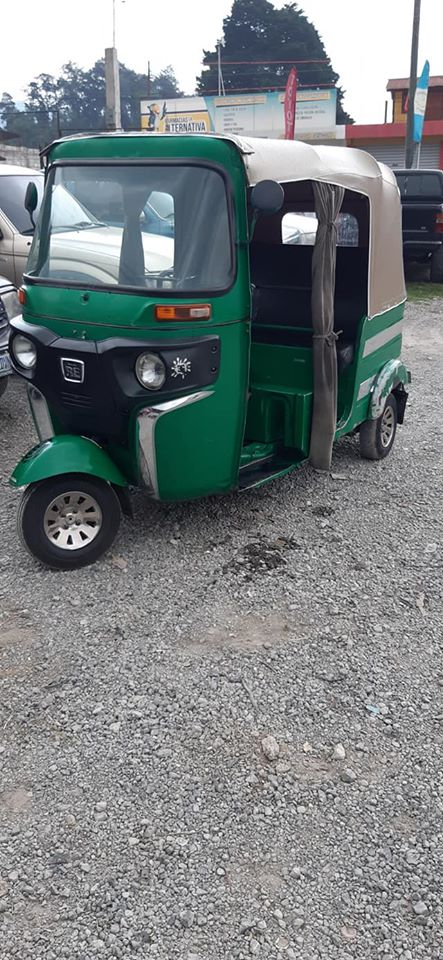mototaxi: (6, 126, 412, 566)
